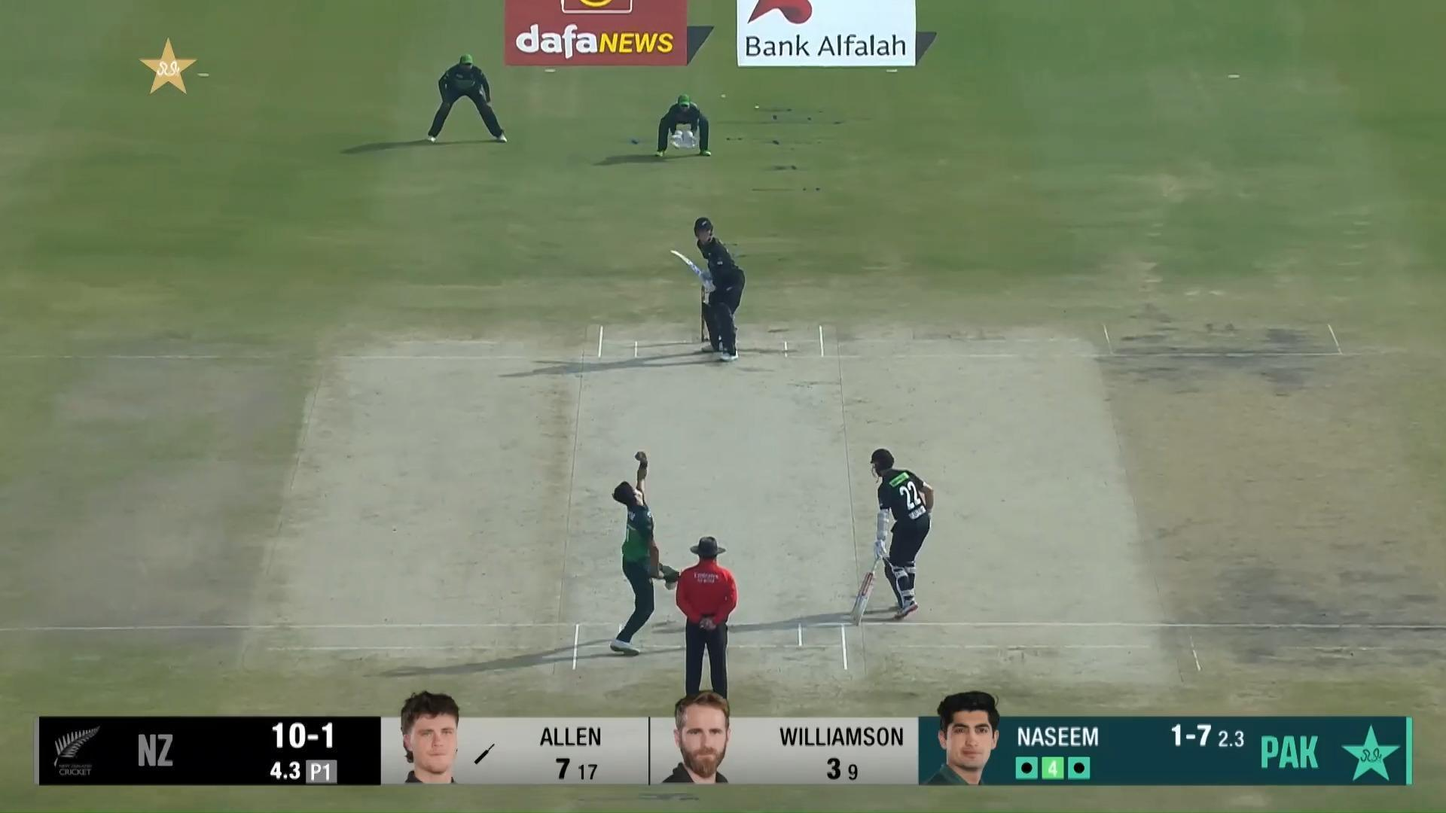BM 1: (670, 216, 746, 363)
BO: (610, 450, 684, 657)
